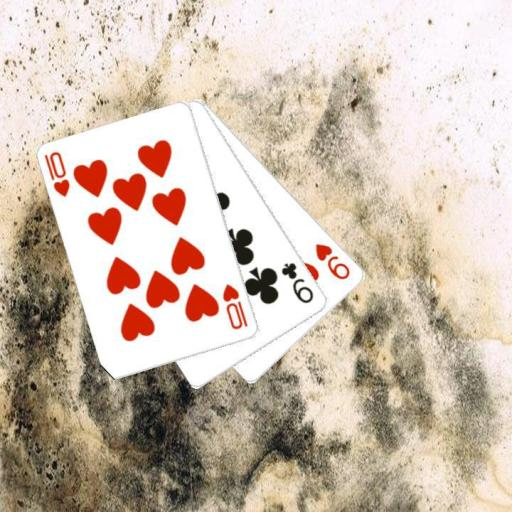10H: (41, 149, 72, 199), (220, 281, 250, 331)
9C: (278, 259, 316, 305)
9H: (312, 241, 352, 282)
